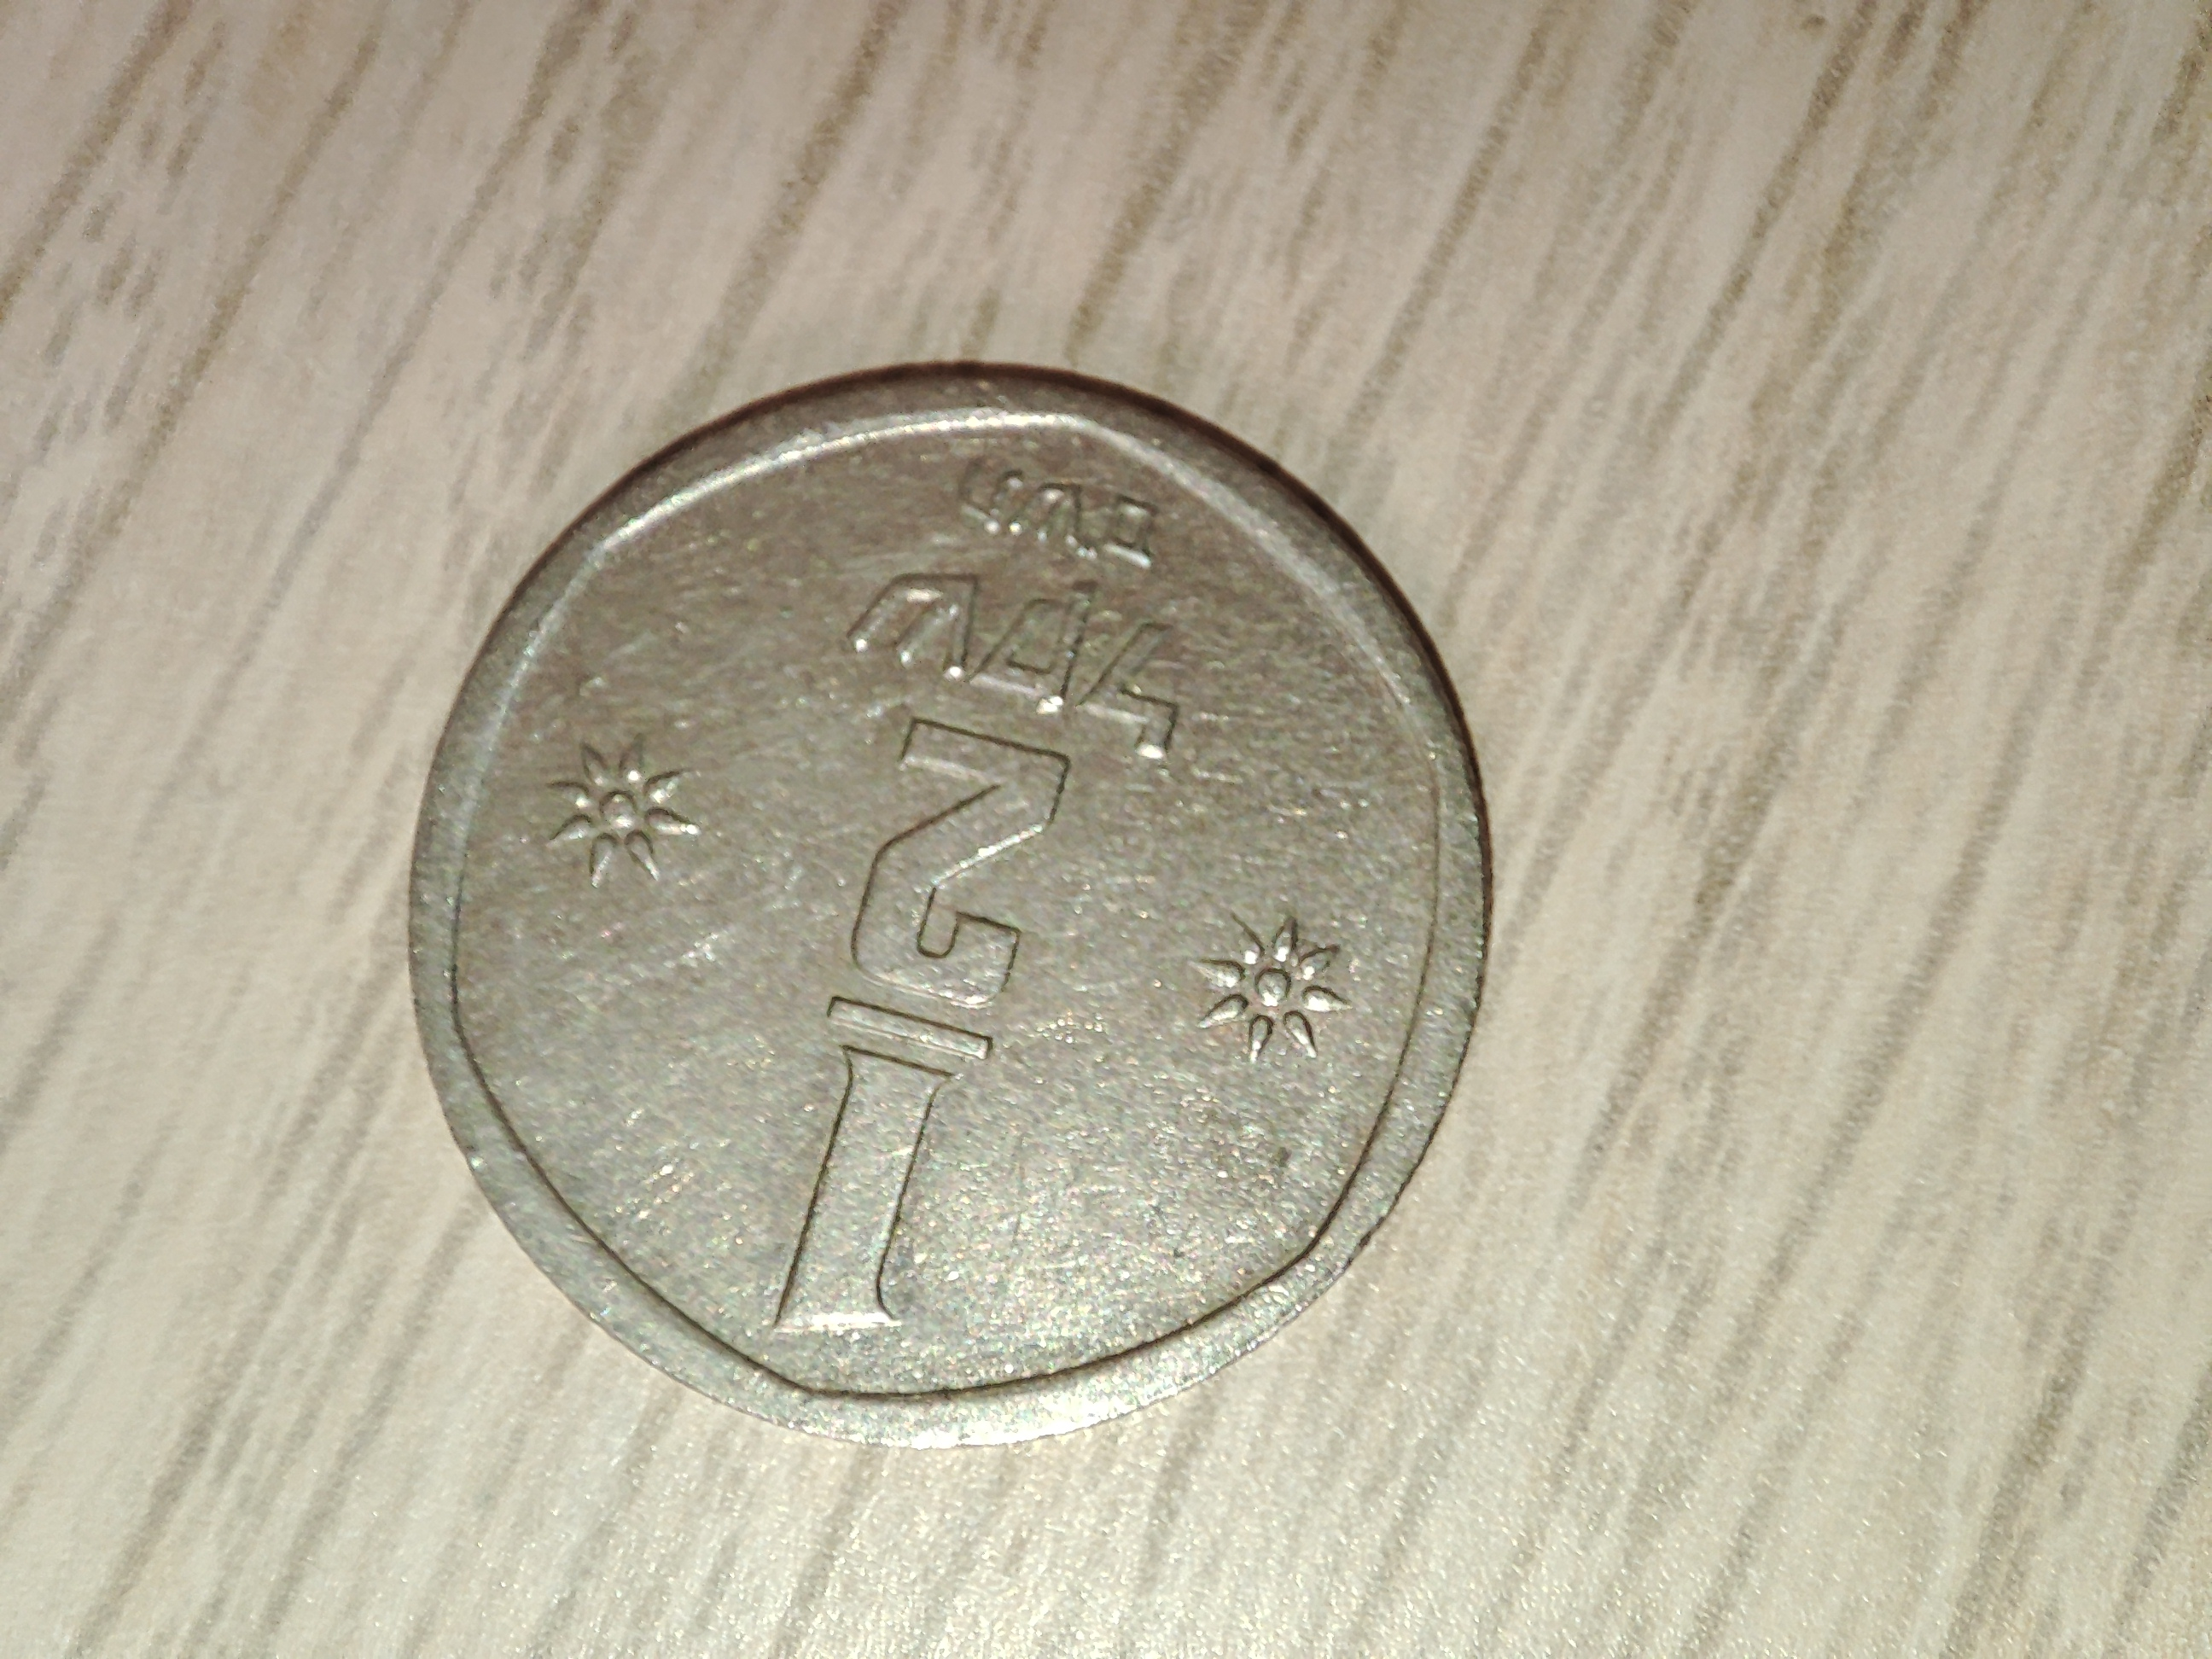1/2 old sheqel: (397, 357, 1503, 1453)
